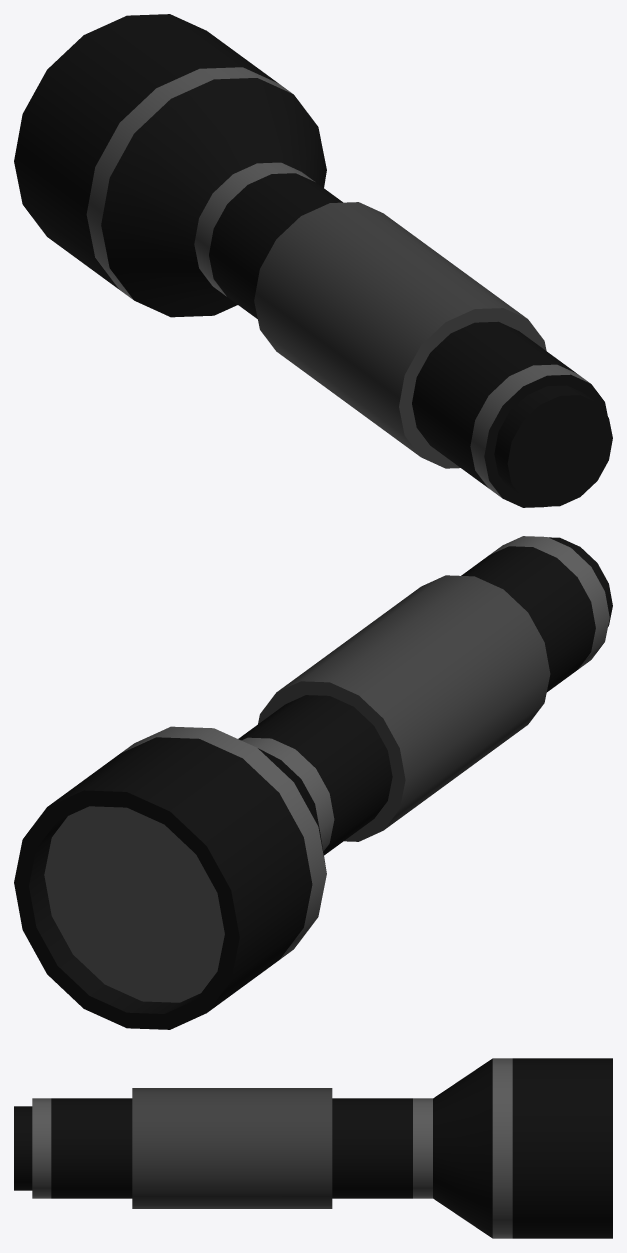
The model's file is Flashlight.fbx.
The picture shows the model from 3 angles, top to bottom: view 1: azimuth 30°, elevation 25°; view 2: azimuth 150°, elevation 25°; view 3: azimuth 270°, elevation 25°; orthographic projection. The views are drawn at different scales.
Visible parts, largest first — view 1: Cylinder; view 2: Cylinder; view 3: Cylinder.
Part boxes in pixels (<box>): Cylinder: <box>14,14,612,507</box>; Cylinder: <box>14,536,612,1029</box>; Cylinder: <box>14,1058,612,1238</box>.
Size of the model in its own units: 89.94 by 89.94 by 299.
